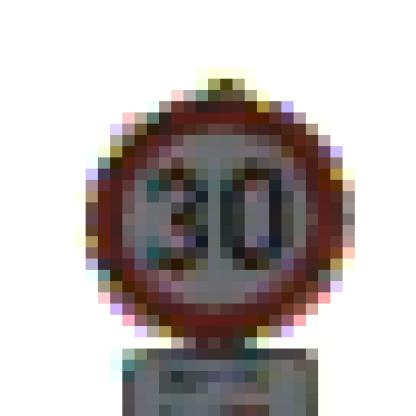Speed Limit 30: (89, 100, 348, 338)
